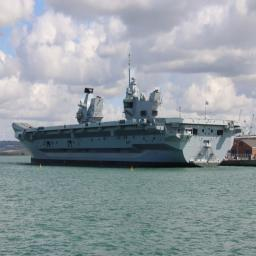Portanaves: (9, 52, 240, 168)
